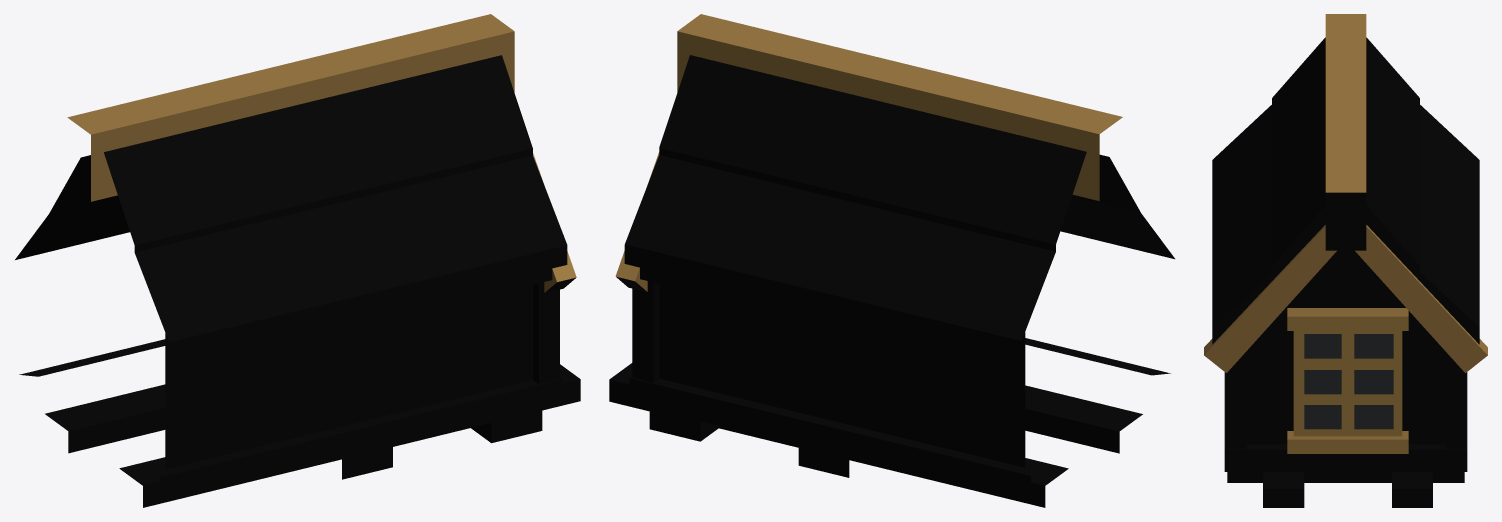
The model's file is HouseAdd_Window_02.gltf.
The picture shows the model from 3 angles, left to right: view 1: azimuth 30°, elevation 25°; view 2: azimuth 150°, elevation 25°; view 3: azimuth 270°, elevation 25°; orthographic projection. The views are drawn at different scales.
Visible parts, largest first — view 1: SF_Bld_HouseAdd_Window_02; view 2: SF_Bld_HouseAdd_Window_02; view 3: SF_Bld_HouseAdd_Window_02.
Boxes of the visible parts, x1,y1,x2,y2 form: SF_Bld_HouseAdd_Window_02: (15,14,580,507); SF_Bld_HouseAdd_Window_02: (609,14,1174,507); SF_Bld_HouseAdd_Window_02: (1204,14,1487,507).
Bounding box in the file's own units: 0.039 × 0.0288 × 0.0245.
1 material, 1 textured.
